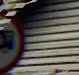Heavy Vehicles: (1, 9, 26, 74)
